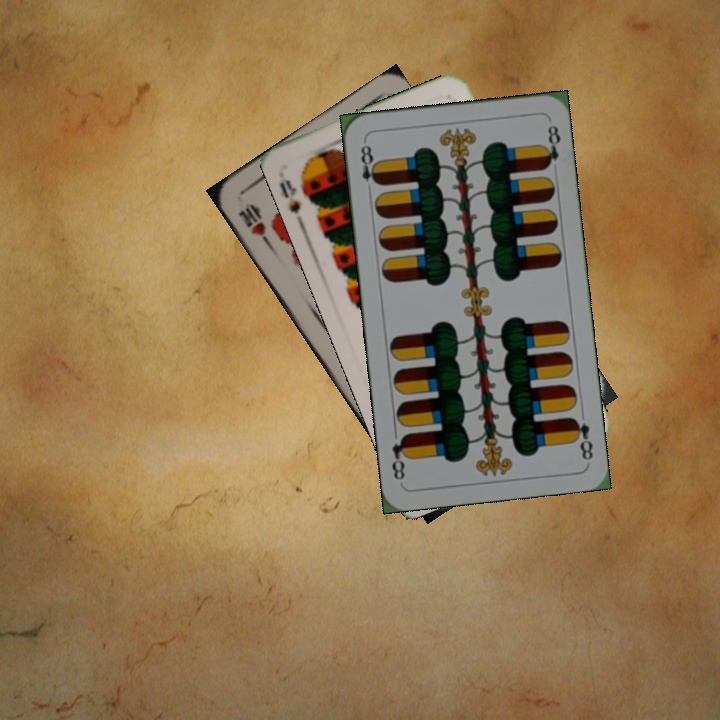E8: (567, 413, 596, 463), (357, 138, 382, 188)
H10: (234, 199, 274, 249)
S8: (275, 172, 304, 217)
